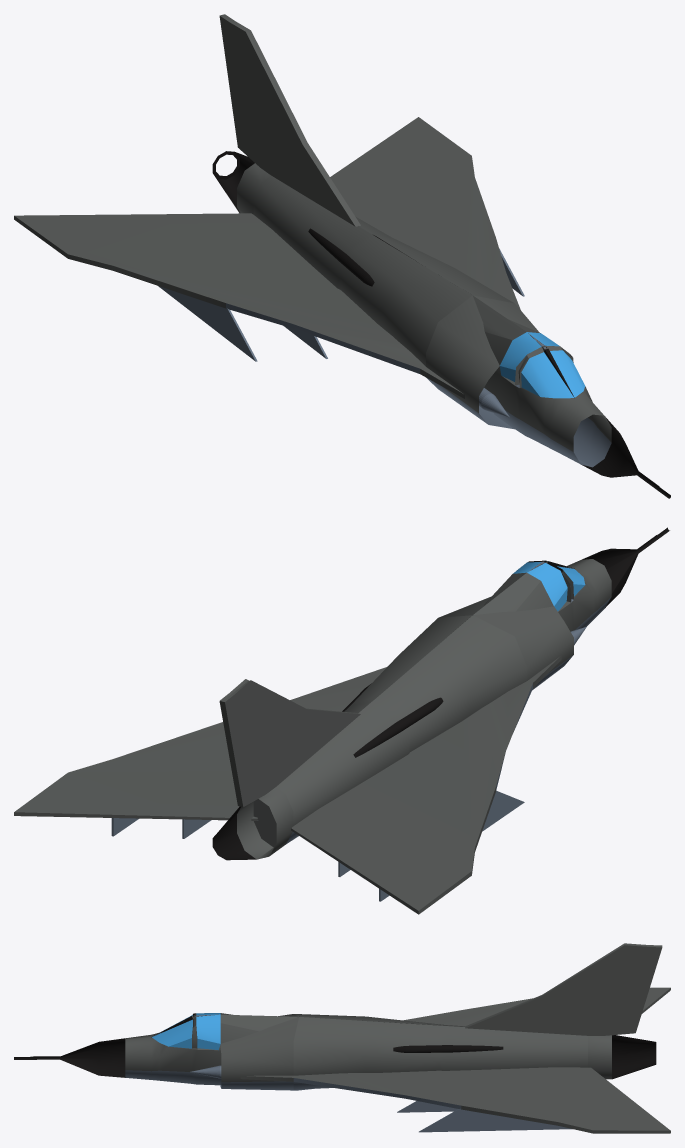
Rendered from Mondeno.glb.
3 renders of one model, top to bottom at view 1: azimuth 30°, elevation 25°; view 2: azimuth 150°, elevation 25°; view 3: azimuth 270°, elevation 25°, orthographic. The views are drawn at different scales.
Parts seen in each view (by area): view 1: Cylinder; view 2: Cylinder; view 3: Cylinder.
Part boxes in pixels (x1=…): Cylinder: x1=14, y1=14, x2=670, y2=498; Cylinder: x1=14, y1=527, x2=669, y2=914; Cylinder: x1=14, y1=943, x2=670, y2=1133.
Bounding box in the file's own units: 8.62 × 4.11 × 16.73.
